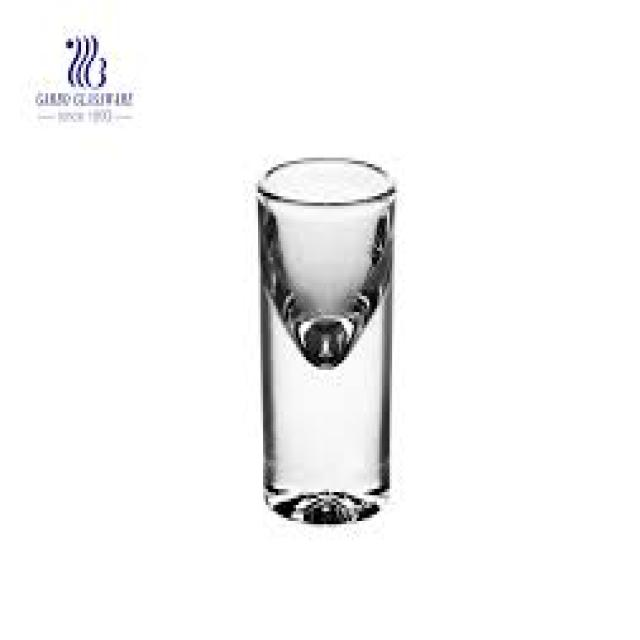glass: (256, 154, 387, 521)
